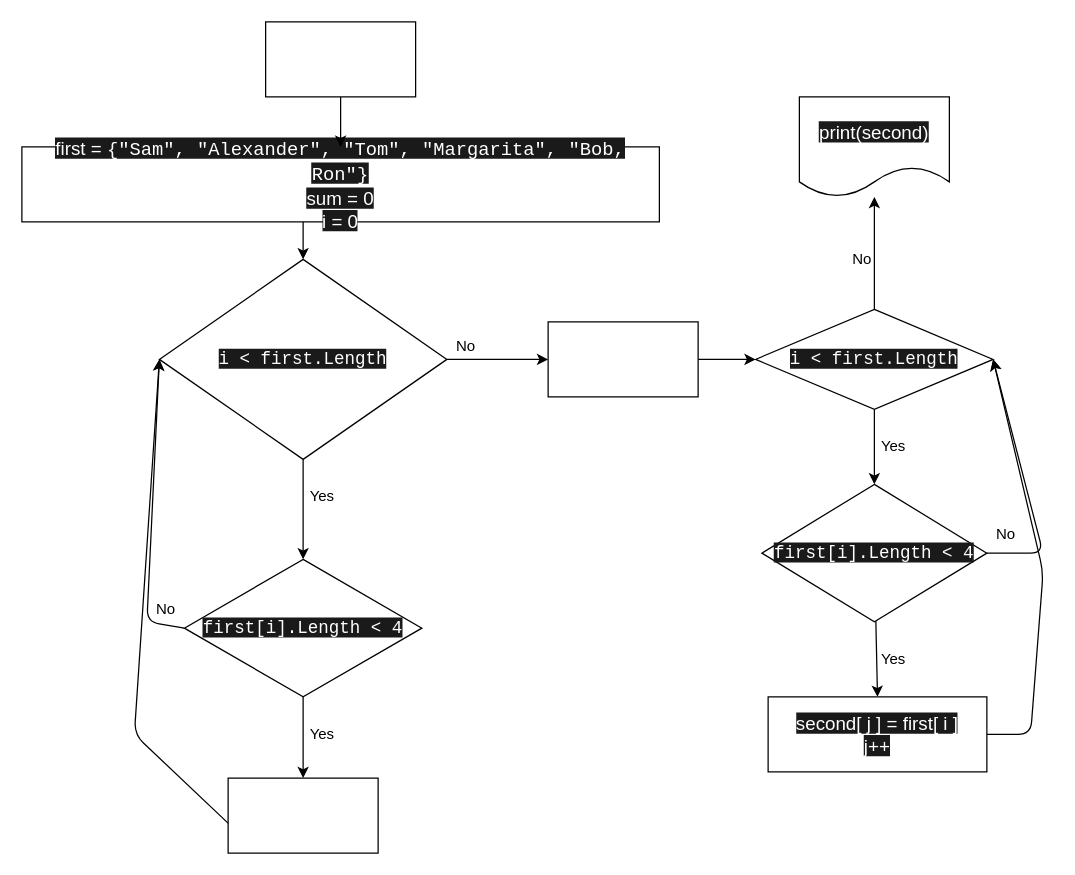
The diagram is 1075 pixels wide and 875 high, and some of its shapes have lost their labels. The shapes that lost their labels are listed below. From the top down, each one's box as (x1, y1, x2, y2) in pixels, then its label:
(264, 21, 416, 97): Start
(547, 321, 698, 397): second i = 0 j = 0
(227, 777, 378, 853): sum += 1 i++
